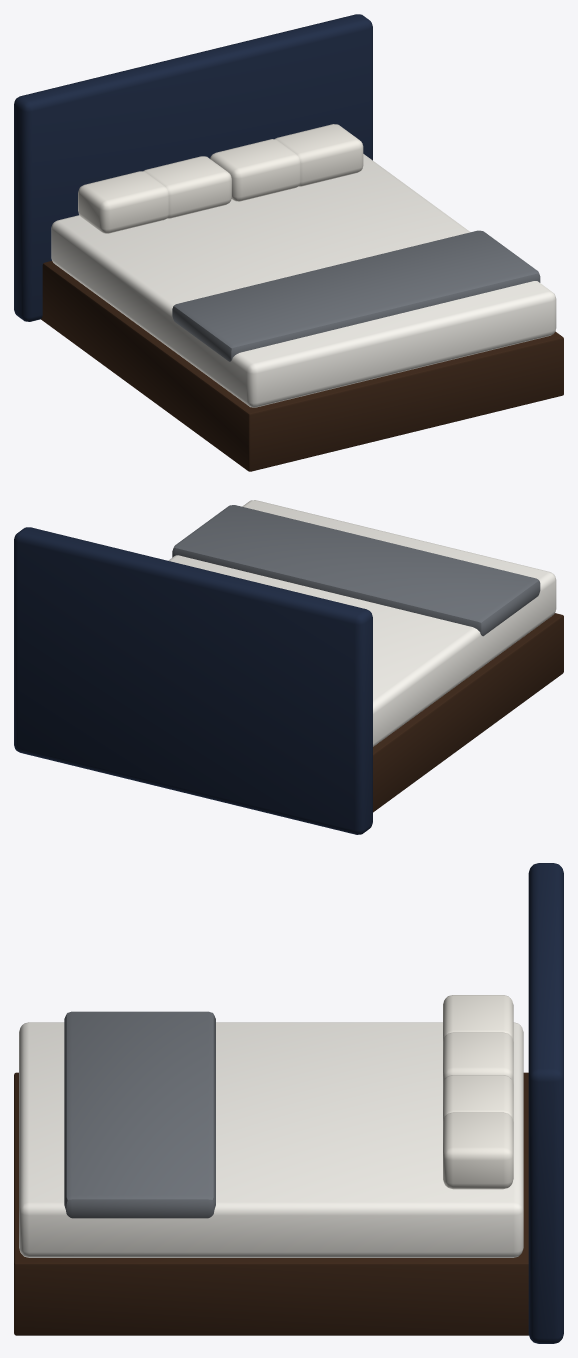
Rendered from marlin_bed.glb.
The picture shows the model from 3 angles, top to bottom: view 1: azimuth 30°, elevation 25°; view 2: azimuth 150°, elevation 25°; view 3: azimuth 270°, elevation 25°; orthographic projection. The views are drawn at different scales.
Visible parts, largest first — view 1: marlin_bed; view 2: marlin_bed; view 3: marlin_bed.
Boxes of the visible parts, x1=… form: marlin_bed: x1=14, y1=14, x2=563, y2=471; marlin_bed: x1=14, y1=500, x2=563, y2=834; marlin_bed: x1=14, y1=863, x2=563, y2=1343.
Bounding box in the file's own units: 2 × 1.2 × 2.18.
